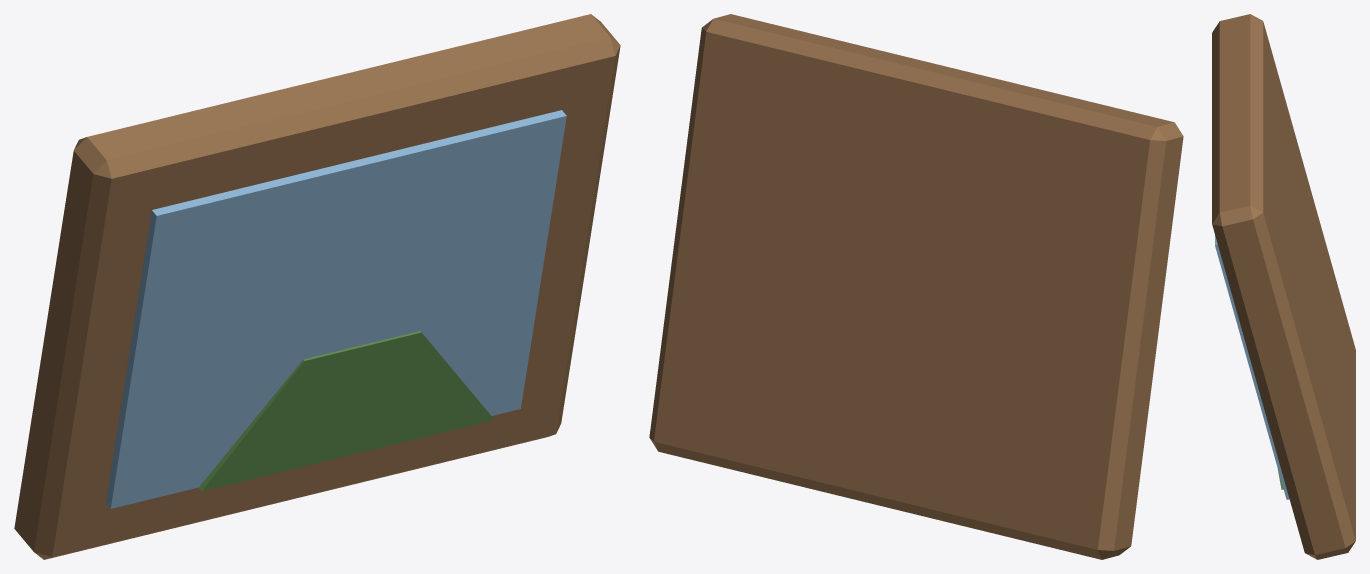
Rendered from prop_poster_p1.glb.
3 renders of one model, left to right at view 1: azimuth 30°, elevation 25°; view 2: azimuth 150°, elevation 25°; view 3: azimuth 270°, elevation 25°, orthographic. The views are drawn at different scales.
Visible parts, largest first — view 1: prop_poster_p1_mesh; view 2: prop_poster_p1_mesh; view 3: prop_poster_p1_mesh.
Part boxes in pixels (left/top/right/bottom): prop_poster_p1_mesh: left=14, top=14, right=620, bottom=559; prop_poster_p1_mesh: left=649, top=14, right=1183, bottom=559; prop_poster_p1_mesh: left=1212, top=14, right=1355, bottom=559.
Size of the model in its own units: 0.18 by 0.1483 by 0.0545.
